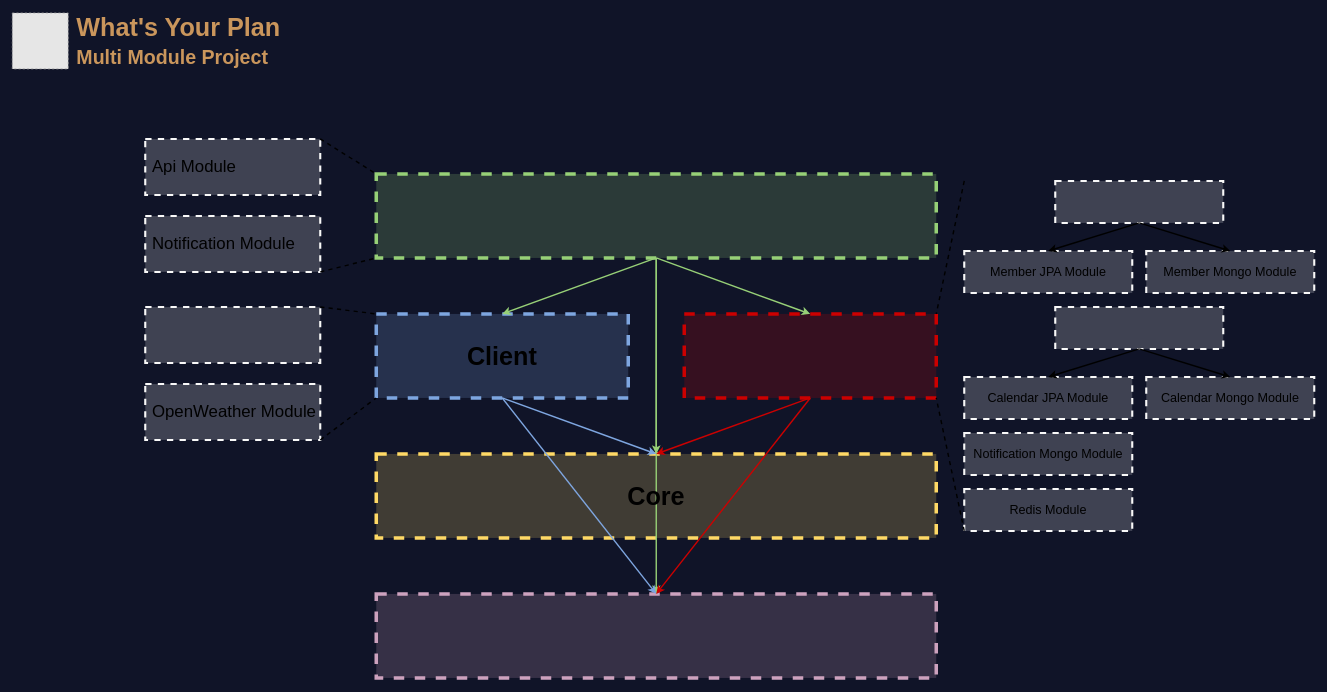
Some shapes in this 1327 by 692 pixel diagram are drawn without their labels. Grey dashed boxes stand in for pictures. The shapes that lost their labels are listed below. From the top down, each one's box as (x1, y1, x2, y2) in pixels, then its label:
(376, 174, 936, 258): Application
(1055, 181, 1223, 223): Member Module
(145, 307, 320, 363): Google Module
(1055, 307, 1223, 349): Calendar Module
(682, 312, 938, 399): Domain
(376, 594, 936, 678): Independent
